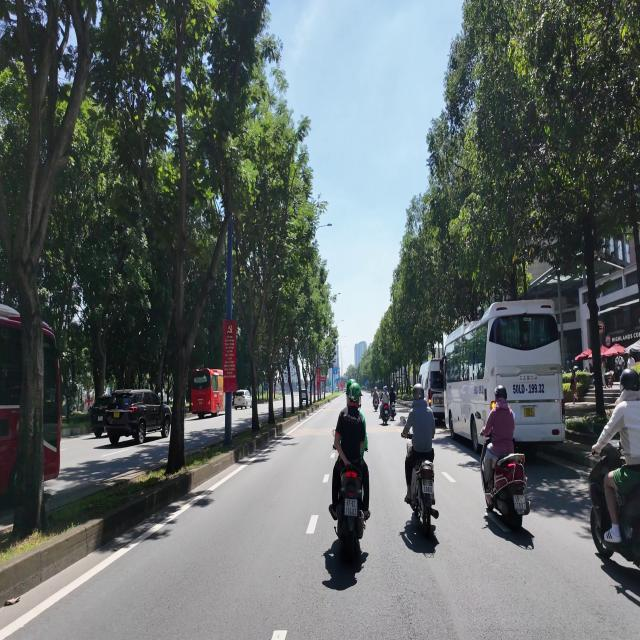car: (105, 390, 171, 444), (90, 395, 111, 437), (233, 390, 251, 409)
motorcycle: (589, 443, 639, 566), (480, 437, 530, 530), (334, 447, 366, 562), (411, 461, 438, 535), (381, 403, 390, 425), (390, 403, 396, 421), (373, 399, 378, 410)
